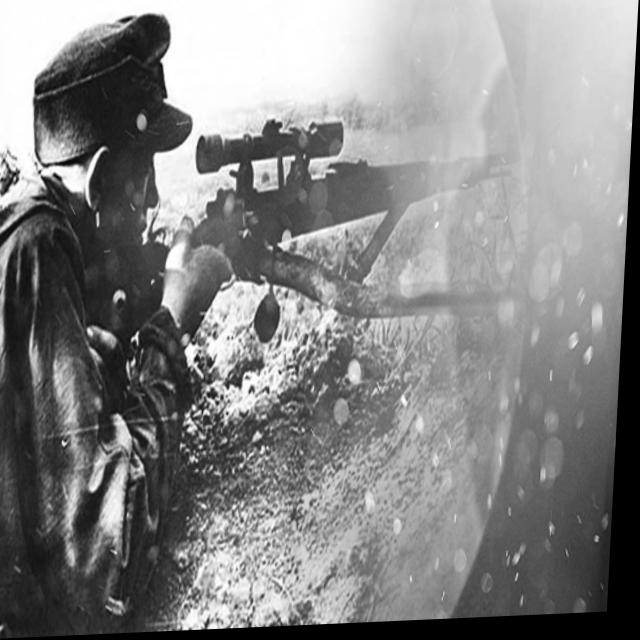other: (0, 10, 210, 639)
